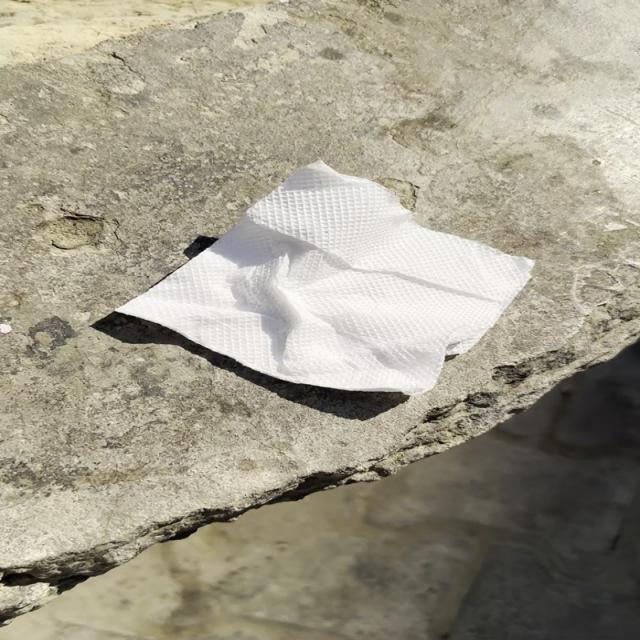tissue: (112, 159, 541, 400)
